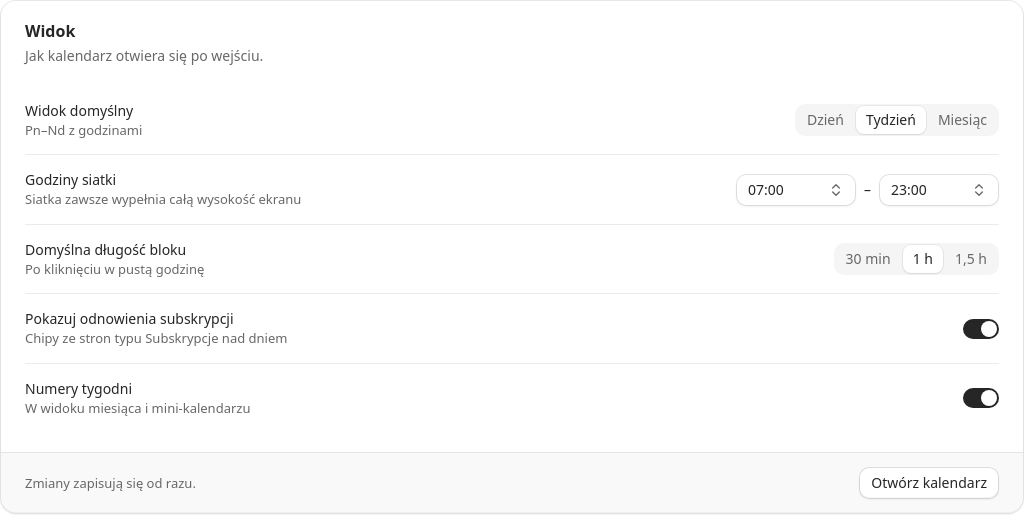
Test case: CalendarSettingsCard › po błędzie wraca poprzednia wartość
The width and height of the screenshot is (1024, 531).
Click the switch named "Numery tygodni" at (981, 398), box [963,388,999,408]
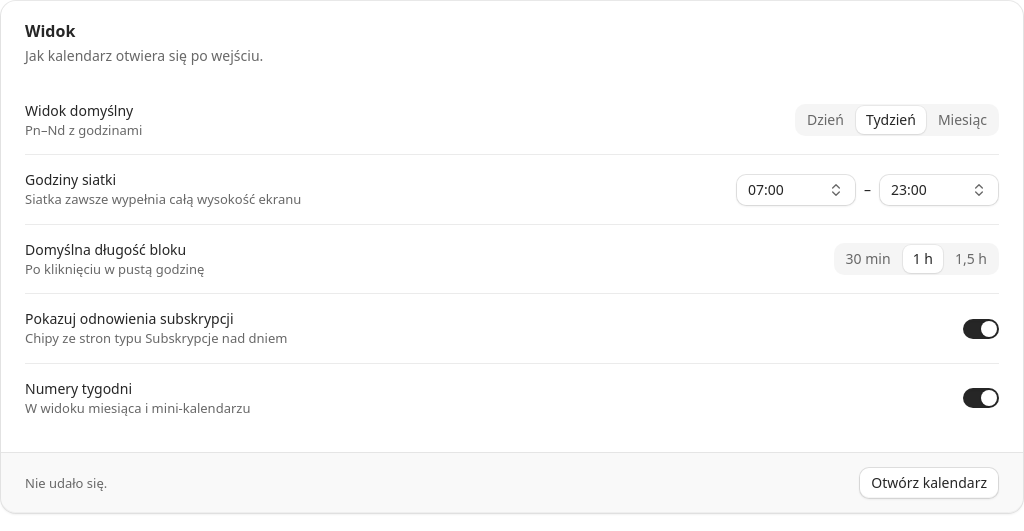
Result: the message reads "Nie udało się." at [25,474,107,492]
